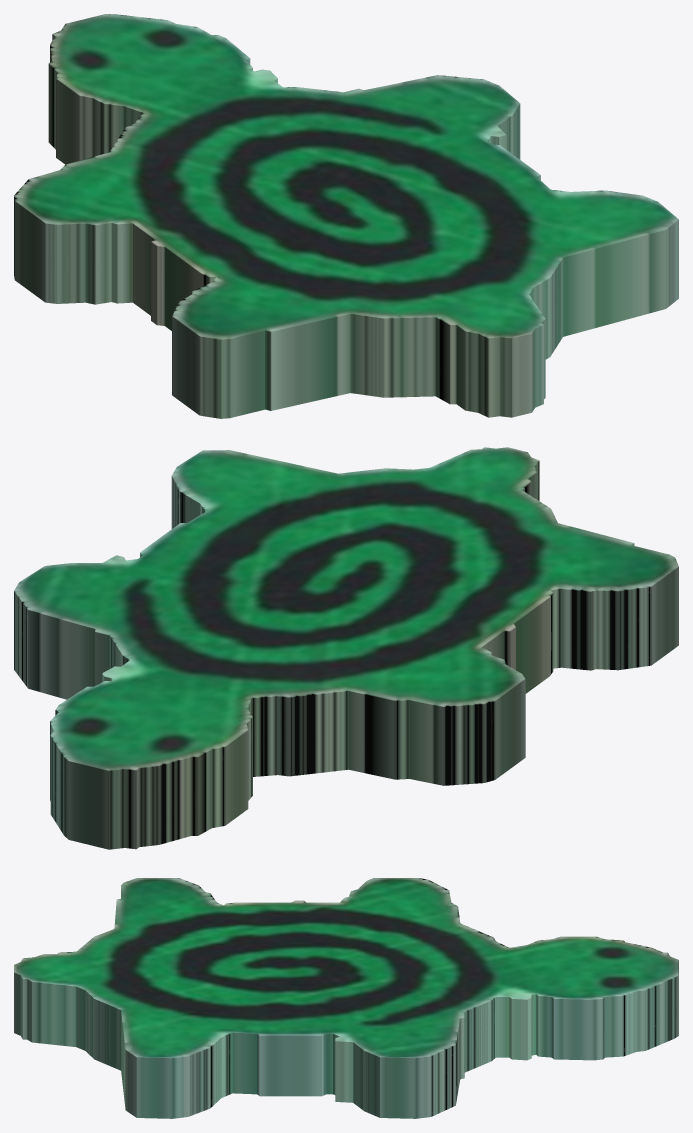
File: zolwZielony.gltf
3 views of the same model, one above another, from view 1: azimuth 30°, elevation 25°; view 2: azimuth 150°, elevation 25°; view 3: azimuth 270°, elevation 25° (orthographic). The views are drawn at different scales.
Bounding box in the file's own units: 4.85 × 0.762 × 7.57.
1 material, 1 textured.
